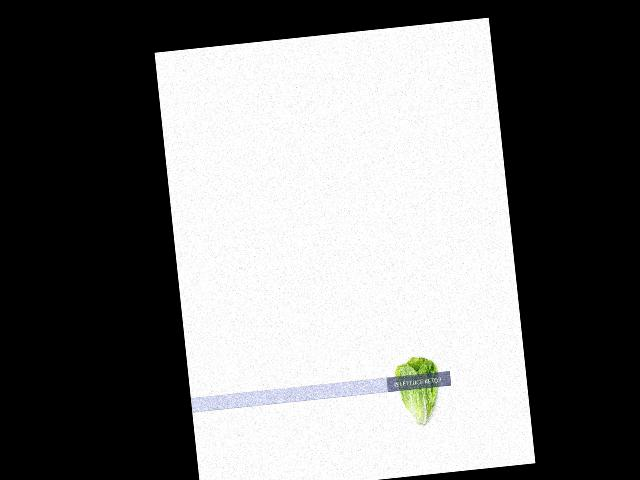lettuce: (391, 354, 447, 434)
